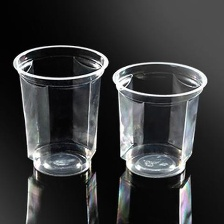glass: (9, 41, 110, 184), (107, 57, 211, 181)
